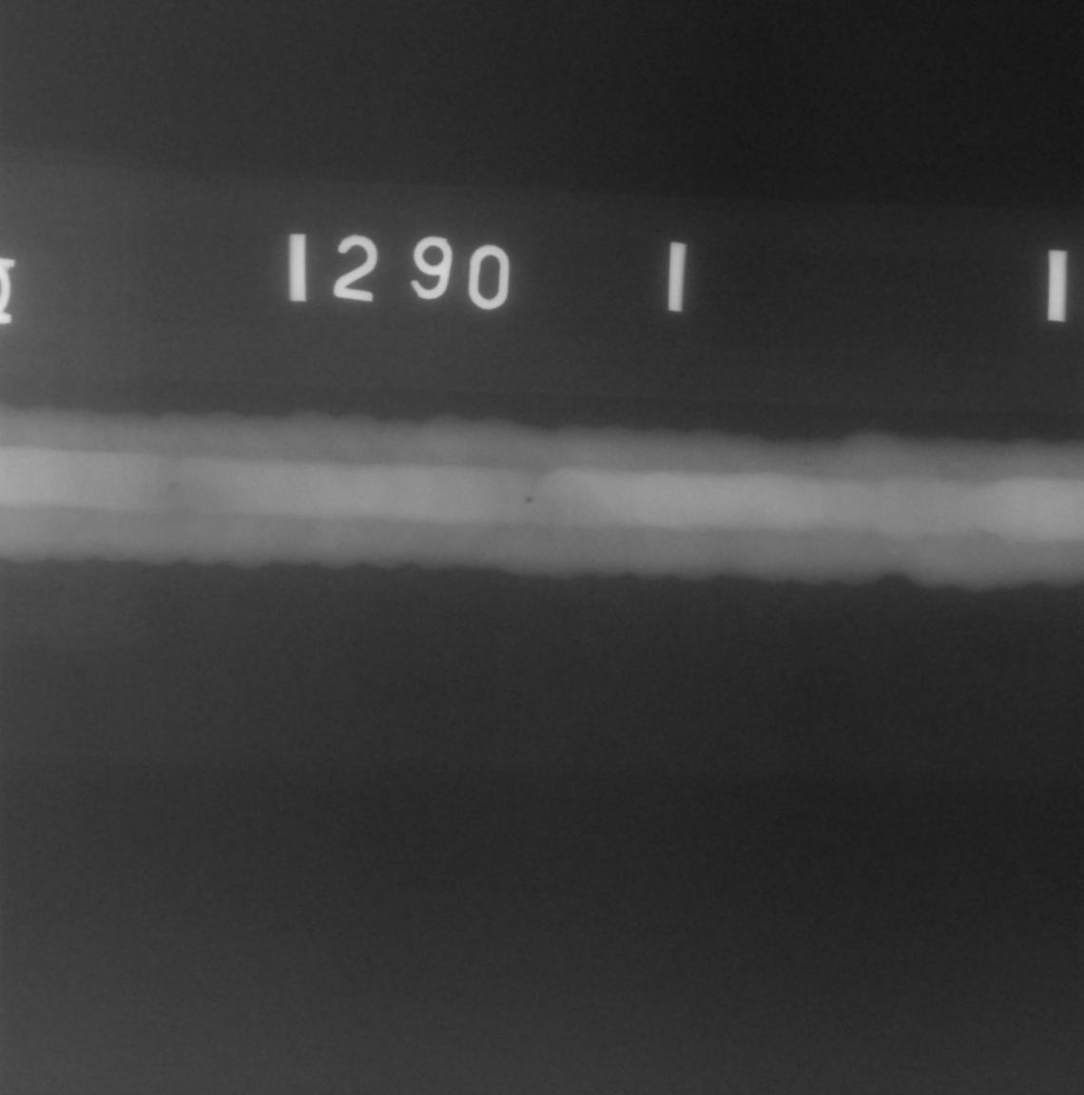Inclusion: (168, 483, 182, 488)
Pore/Porosity: (524, 496, 534, 504)
